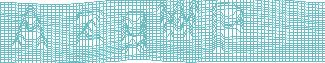A: (11, 3, 49, 52)
P: (209, 1, 245, 53)
W: (154, 1, 199, 42)
g: (120, 10, 149, 56)
z: (73, 8, 105, 46)
